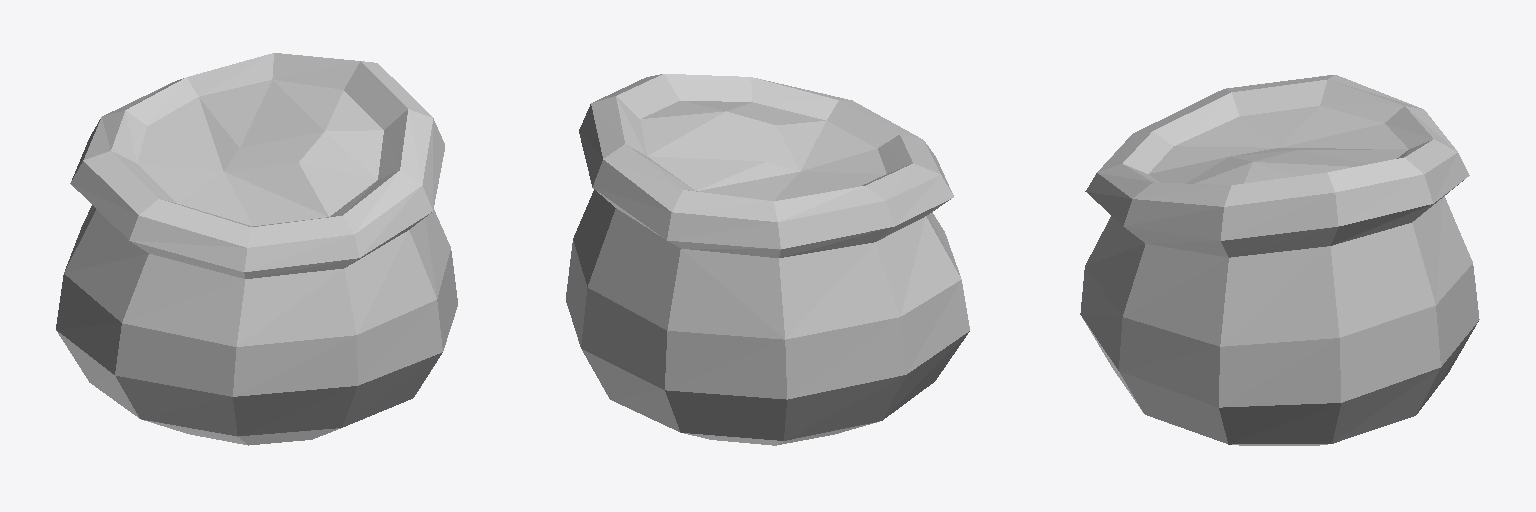
The model's file is sack of gold2.obj.
The picture shows the model from 3 angles: view 1: azimuth 30°, elevation 25°; view 2: azimuth 150°, elevation 25°; view 3: azimuth 270°, elevation 25°; orthographic projection.
Visible parts, largest first — view 1: Sphere003; view 2: Sphere003; view 3: Sphere003.
Boxes of the visible parts, box(x1,y1,x2,y2) form: Sphere003: box(56, 53, 457, 445); Sphere003: box(566, 74, 969, 445); Sphere003: box(1080, 75, 1479, 445).
Bounding box in the file's own units: 88.5 × 72.02 × 89.1.